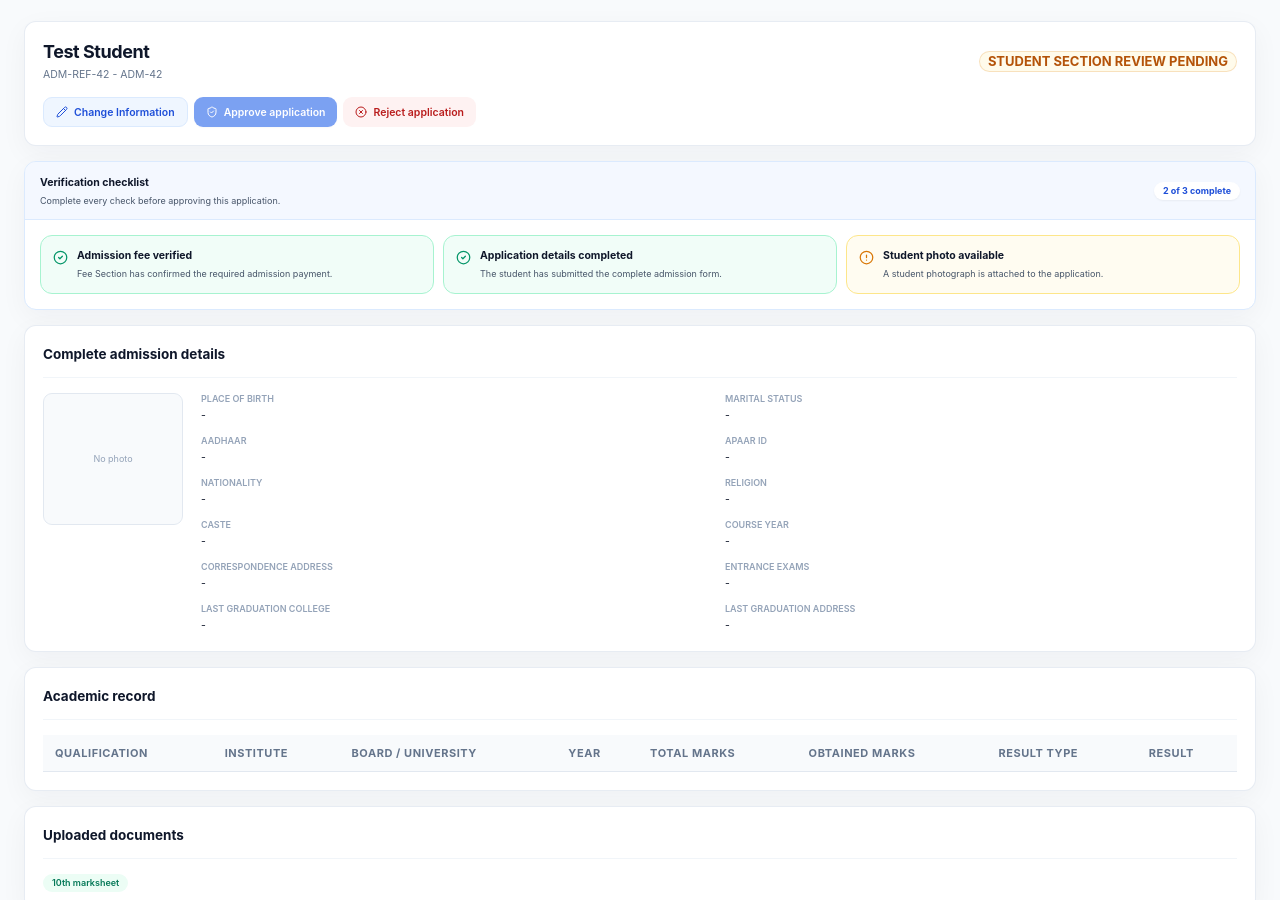
Test: StudentSectionAdmissionDetailPage › starts read-only, shows uploaded documents, and enables editing on request
Expected: the heading "Test Student" is shown, [43,40,162,64]
Expected: the button "10th marksheet" is shown, [43,874,128,892]
Click the button "Change Information": (115, 112) [43,97,188,127]
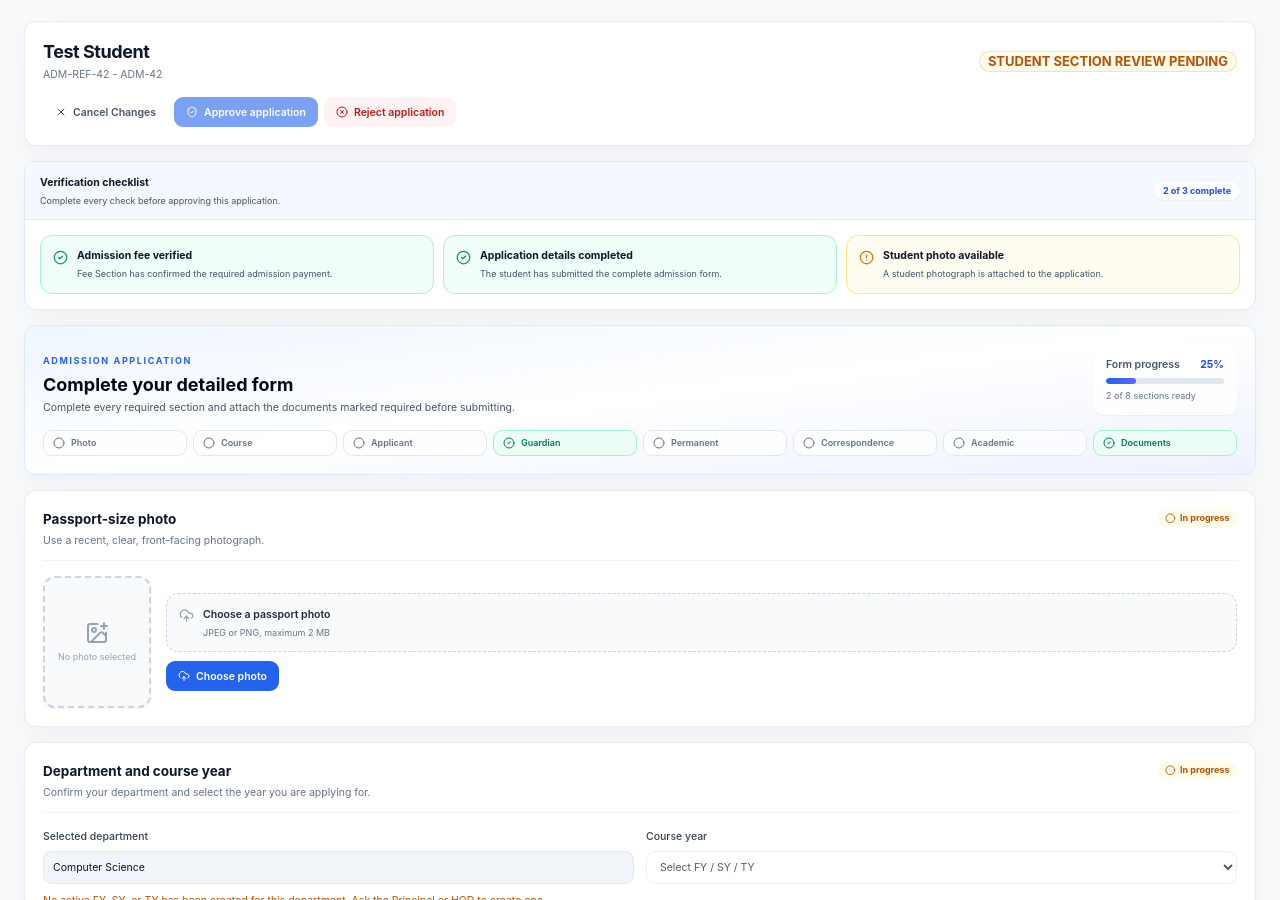
Now the button "Cancel Changes" is shown, box [43,97,168,127]
